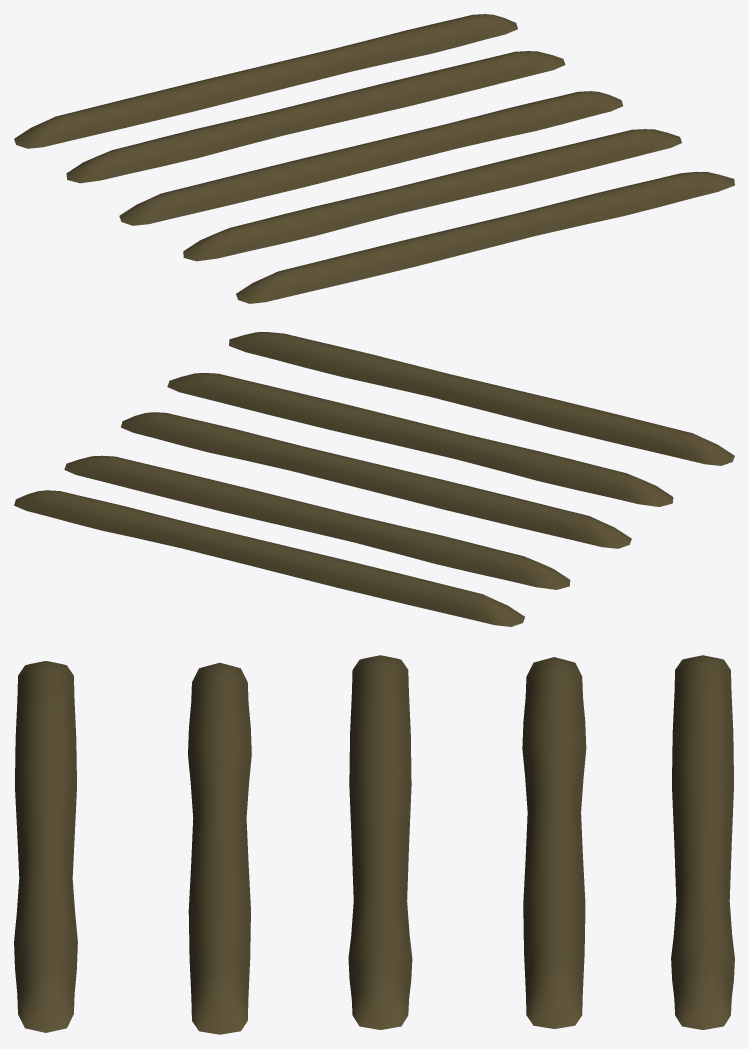
File: Farm_Dirt_Level1.glb
The picture shows the model from 3 angles, top to bottom: view 1: azimuth 30°, elevation 25°; view 2: azimuth 150°, elevation 25°; view 3: azimuth 270°, elevation 25°; orthographic projection. The views are drawn at different scales.
Visible parts, largest first — view 1: Farm_Dirt_Level1; view 2: Farm_Dirt_Level1; view 3: Farm_Dirt_Level1.
Boxes of the visible parts, <box> form: Farm_Dirt_Level1: <box>14,14,734,303</box>; Farm_Dirt_Level1: <box>14,332,734,626</box>; Farm_Dirt_Level1: <box>14,655,734,1034</box>.
Size of the model in its own units: 1.79 by 0.0564 by 1.44.
